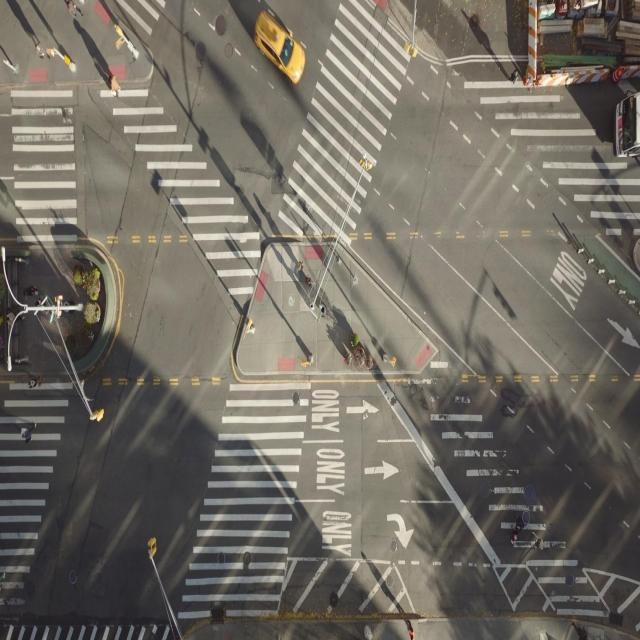Car: (244, 0, 314, 112)
